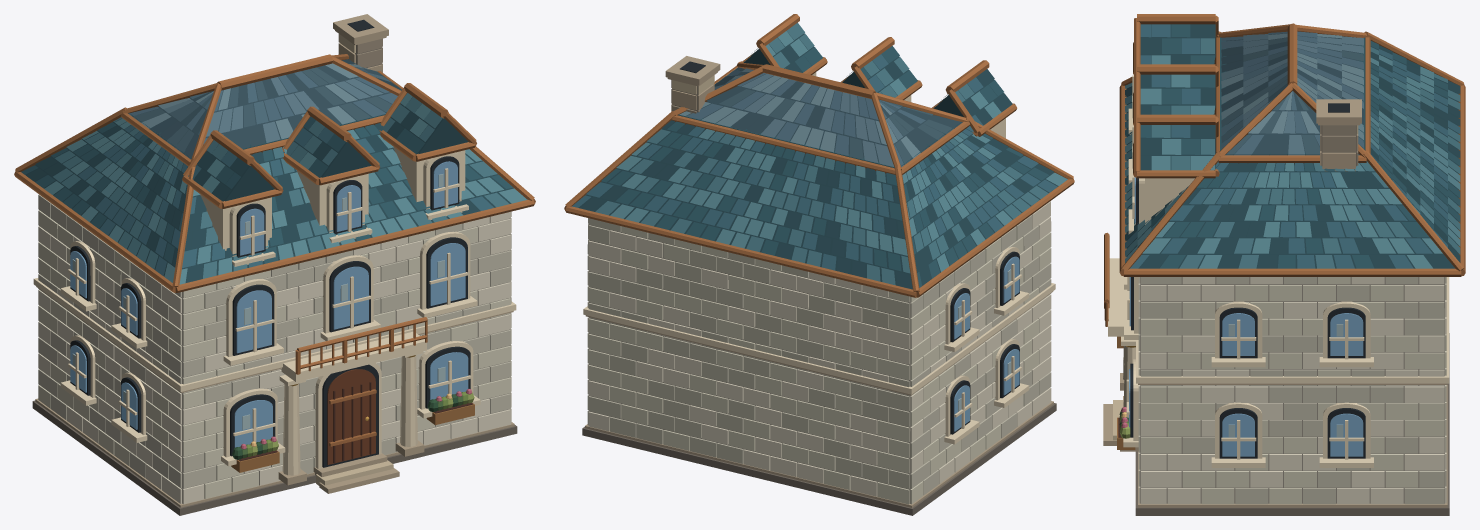
Rendered from moradia-nivel-9.glb.
The picture shows the model from 3 angles, left to right: view 1: azimuth 30°, elevation 25°; view 2: azimuth 150°, elevation 25°; view 3: azimuth 270°, elevation 25°; orthographic projection. The views are drawn at different scales.
Parts seen in each view (by area): view 1: Moradia 09 #e6d7ba, Moradia 09 #e0d9c5, Moradia 09 #c6c2b0, Moradia 09 #a76e42, Moradia 09 #d5d1bc, Moradia 09 #294952, Moradia 09 #567185, Moradia 09 #54818b, Moradia 09 #46717c, Moradia 09 #252c32, Moradia 09 #305762, Moradia 09 #b4a38a (+14 smaller); view 2: Moradia 09 #c6c2b0, Moradia 09 #e0d9c5, Moradia 09 #d5d1bc, Moradia 09 #294952, Moradia 09 #a76e42, Moradia 09 #46717c, Moradia 09 #54818b, Moradia 09 #305762, Moradia 09 #3b6472, Moradia 09 #e6d7ba, Moradia 09 #9a9488, Moradia 09 #746c62 (+8 smaller); view 3: Moradia 09 #d5d1bc, Moradia 09 #e0d9c5, Moradia 09 #294952, Moradia 09 #a76e42, Moradia 09 #c6c2b0, Moradia 09 #e6d7ba, Moradia 09 #54818b, Moradia 09 #3b6472, Moradia 09 #305762, Moradia 09 #46717c, Moradia 09 #9a9488, Moradia 09 #567185 (+9 smaller).
Part boxes in pixels (x1,y1,x2,y2): Moradia 09 #e6d7ba: (33,147,516,475); Moradia 09 #e0d9c5: (38,211,511,504); Moradia 09 #c6c2b0: (38,194,511,488); Moradia 09 #a76e42: (14,54,535,446); Moradia 09 #d5d1bc: (38,210,511,498); Moradia 09 #294952: (25,97,513,282); Moradia 09 #567185: (70,161,468,447); Moradia 09 #54818b: (44,93,527,284); Moradia 09 #46717c: (53,97,509,278); Moradia 09 #252c32: (70,19,470,467); Moradia 09 #305762: (21,71,513,263); Moradia 09 #b4a38a: (35,14,514,507); Moradia 09 #c6c2b0: (587,215,1051,494); Moradia 09 #e0d9c5: (587,201,1051,496); Moradia 09 #d5d1bc: (587,226,1051,504); Moradia 09 #294952: (578,33,1057,289); Moradia 09 #a76e42: (564,14,1074,297); Moradia 09 #46717c: (595,22,1048,285); Moradia 09 #54818b: (610,31,1067,271); Moradia 09 #305762: (601,46,1048,287); Moradia 09 #3b6472: (572,54,1057,270); Moradia 09 #e6d7ba: (583,72,1055,444); Moradia 09 #9a9488: (589,224,929,503); Moradia 09 #746c62: (582,86,1056,515); Moradia 09 #d5d1bc: (1138,277,1446,504); Moradia 09 #e0d9c5: (1138,277,1446,504); Moradia 09 #294952: (1125,24,1460,268); Moradia 09 #a76e42: (1104,14,1465,326); Moradia 09 #c6c2b0: (1138,277,1446,504); Moradia 09 #e6d7ba: (1108,75,1449,467); Moradia 09 #54818b: (1125,54,1460,268); Moradia 09 #3b6472: (1125,24,1460,268); Moradia 09 #305762: (1125,24,1460,268); Moradia 09 #46717c: (1125,38,1460,268); Moradia 09 #9a9488: (1140,277,1444,503); Moradia 09 #567185: (1129,177,1363,456).
Bounding box in the file's own units: 8.11 × 7.53 × 6.57.
